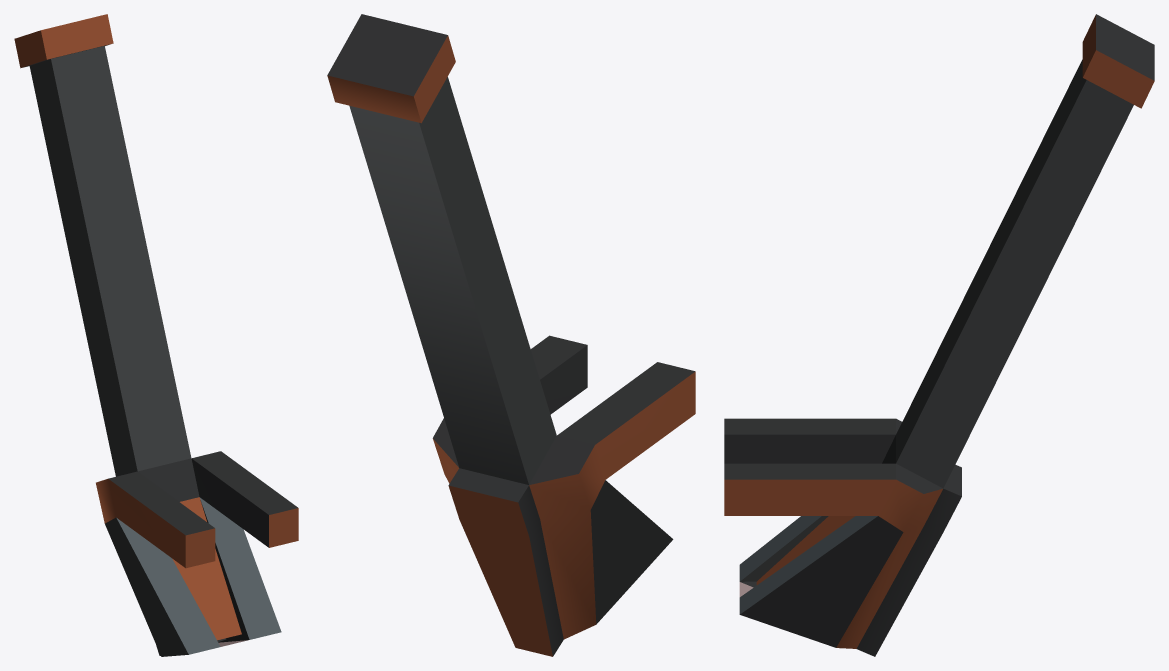
Rendered from Broken Sword.fbx.
3 renders of one model, left to right at view 1: azimuth 30°, elevation 25°; view 2: azimuth 150°, elevation 25°; view 3: azimuth 270°, elevation 25°, orthographic. The views are drawn at different scales.
Visible parts, largest first — view 1: Sword; view 2: Sword; view 3: Sword.
Part boxes in pixels (x1,y1,x2,y2): Sword: (14, 14, 298, 656); Sword: (327, 14, 695, 656); Sword: (724, 14, 1154, 656).
Bounding box in the file's own units: 68.37 × 323 × 204.
